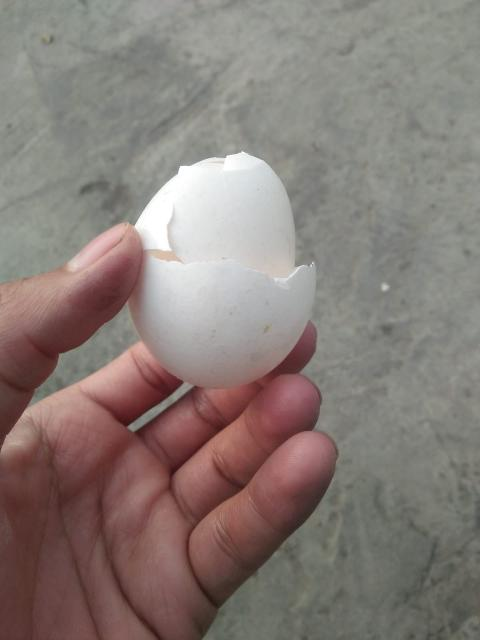Roto: (126, 150, 317, 389)
